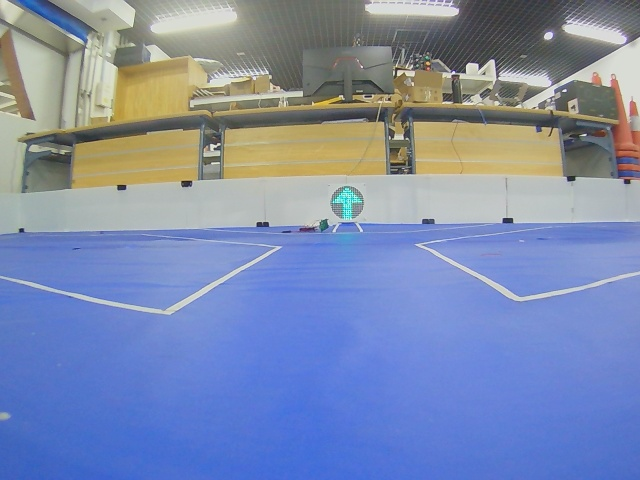straight_green: (330, 186, 364, 220)
